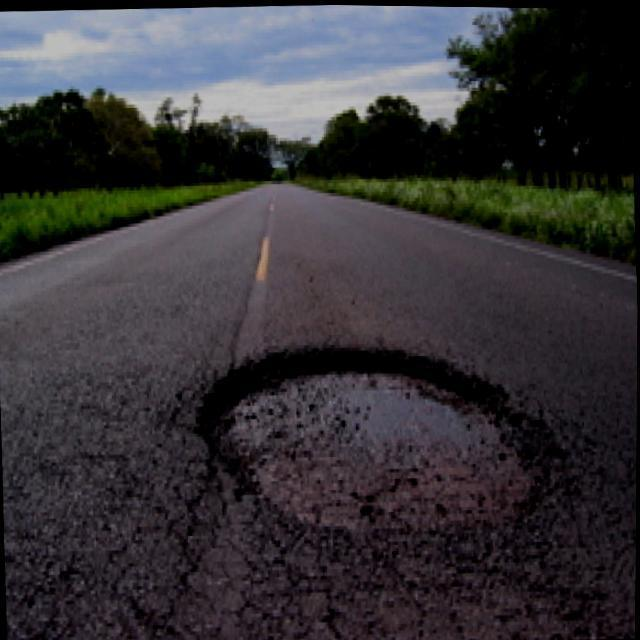Pothole: (201, 341, 557, 538)
